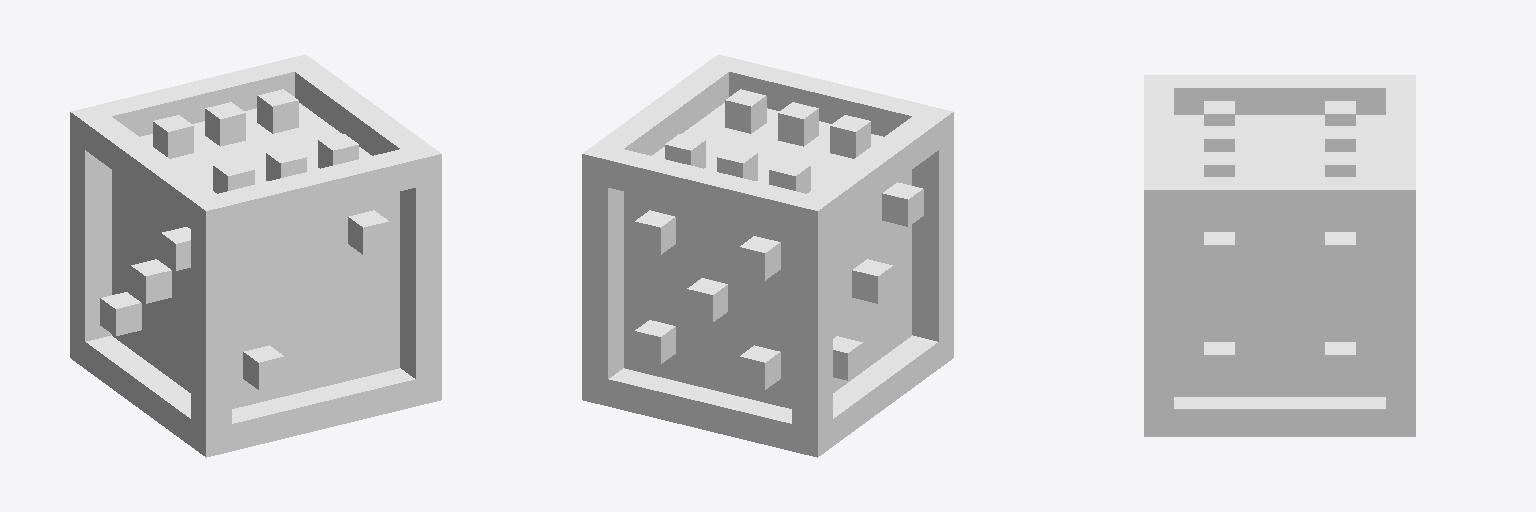
File: dice99Red.obj
3 views of the same model, side by side, from view 1: azimuth 30°, elevation 25°; view 2: azimuth 150°, elevation 25°; view 3: azimuth 270°, elevation 25° (orthographic).
Parts seen in each view (by area): view 1: object 1; view 2: object 1; view 3: object 1.
Boxes of the visible parts, <box> form: object 1: <box>70,54,441,457</box>; object 1: <box>582,54,953,457</box>; object 1: <box>1144,75,1415,436</box>.
Size of the model in its own units: 0.9 by 0.9 by 0.9.